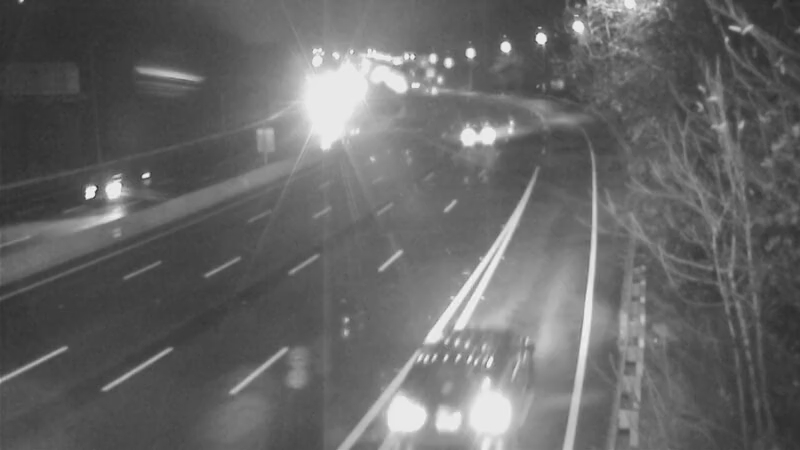vehicle: (389, 351, 499, 450), (61, 148, 141, 228), (407, 66, 457, 116), (445, 109, 495, 159)
